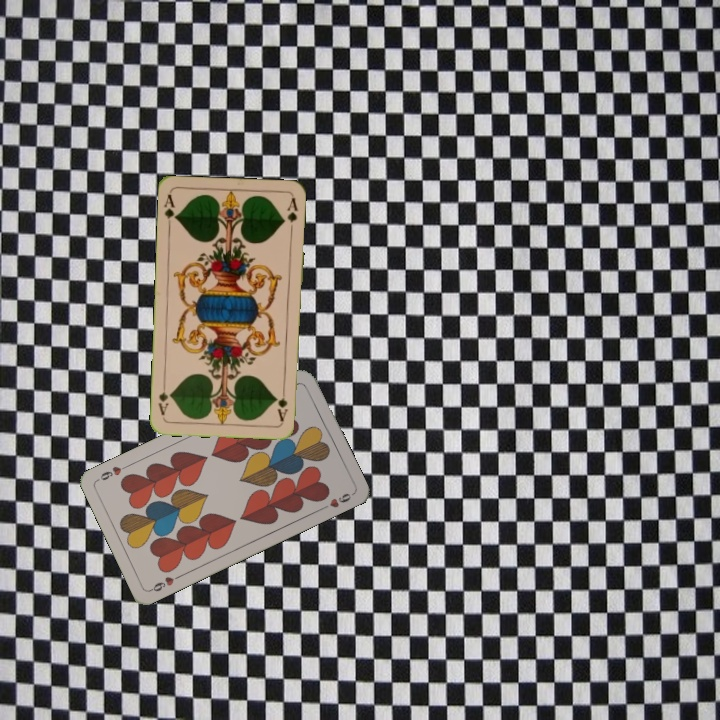GA: (160, 190, 180, 231), (274, 383, 290, 424)
H9: (146, 570, 184, 594)
